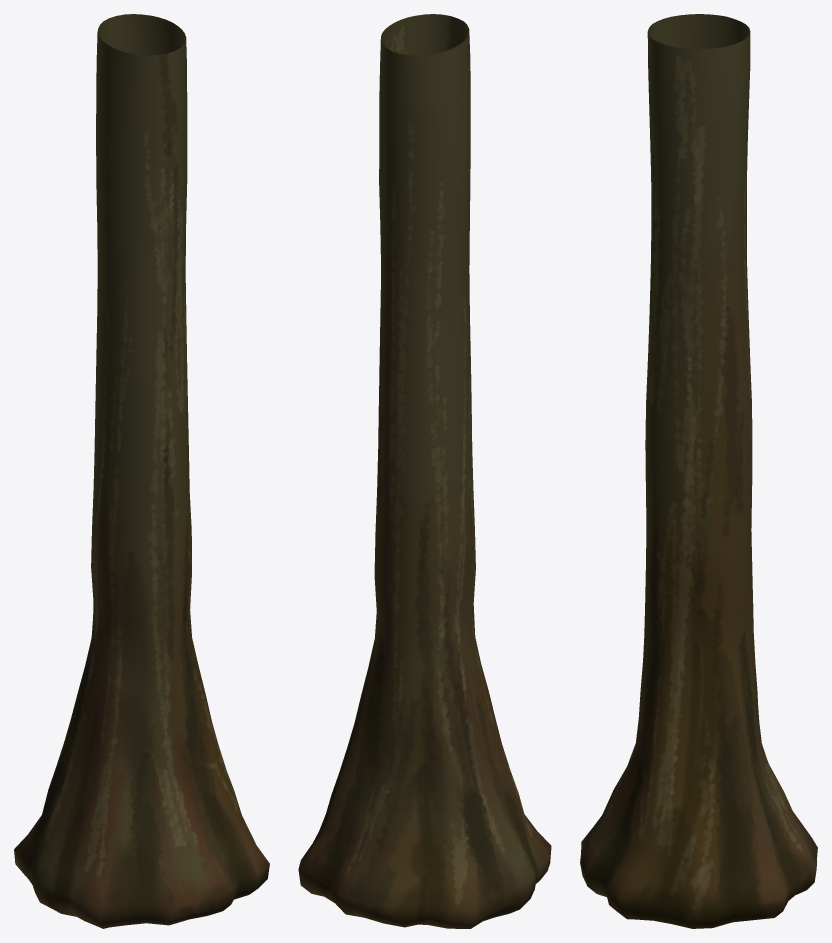
The model's file is Boss_Leg 1.fbx.
The picture shows the model from 3 angles, left to right: view 1: azimuth 30°, elevation 25°; view 2: azimuth 150°, elevation 25°; view 3: azimuth 270°, elevation 25°; orthographic projection.
Parts seen in each view (by area): view 1: Leg_low; view 2: Leg_low; view 3: Leg_low.
Boxes of the visible parts, box(x1,y1,x2,y2) form: Leg_low: box(14, 14, 269, 928); Leg_low: box(298, 14, 551, 928); Leg_low: box(580, 14, 817, 928).
Size of the model in its own units: 10.37 by 10.29 by 41.22.
